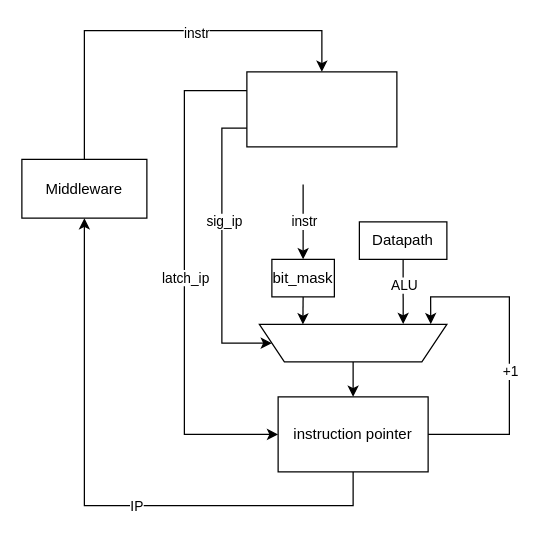
Image size: 541x538. Some labels were removed from this diagram. The centre of each missing label's shape, as x and y in pixels:
"Instruction decoder" belongs at point (321, 109).
"MUX" belongs at point (352, 342).
